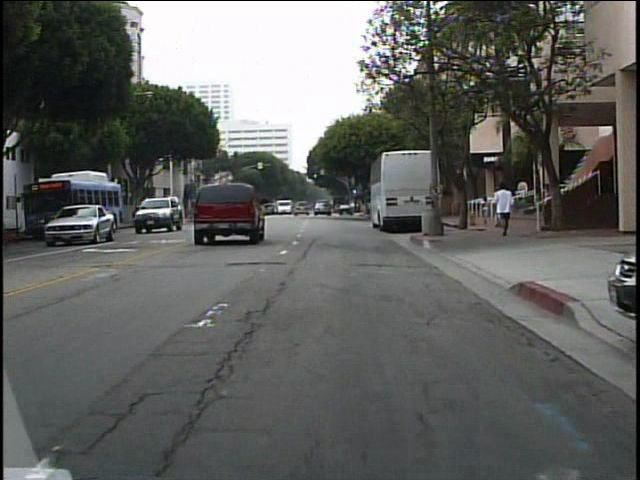person: (495, 179, 520, 239), (538, 180, 555, 234), (480, 195, 493, 228)
